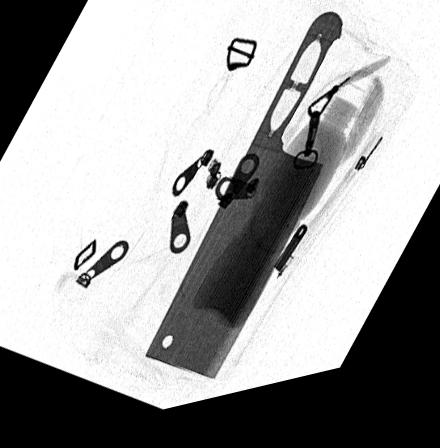Knife: (143, 21, 346, 391)
